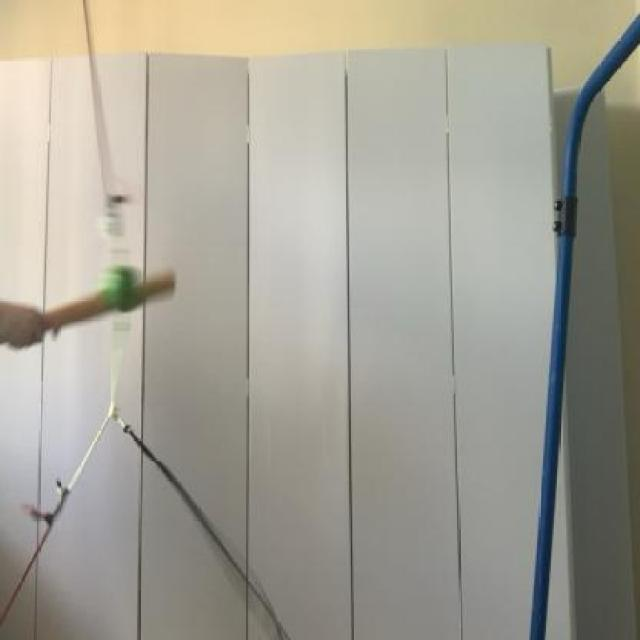baseball: (98, 250, 142, 312)
